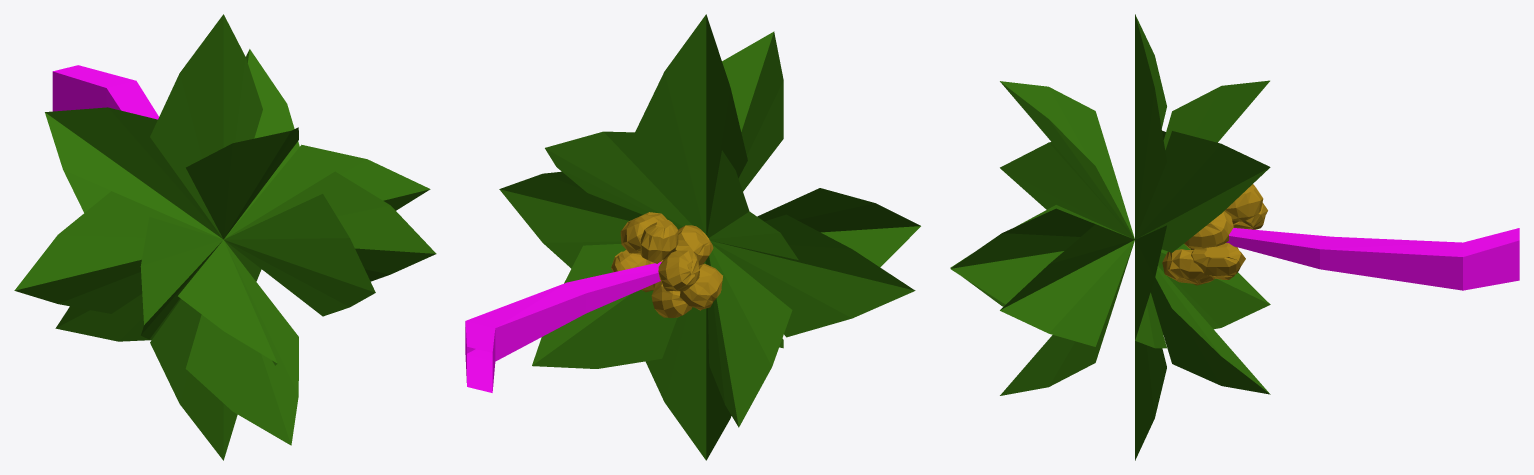
The model's file is 5_mature_full.obj.
3 renders of one model, left to right at view 1: azimuth 30°, elevation 25°; view 2: azimuth 150°, elevation 25°; view 3: azimuth 270°, elevation 25°, orthographic.
Parts seen in each view (by area): view 1: papayapalm; view 2: papayapalm; view 3: papayapalm.
Boxes of the visible parts, bbox=[...] form: papayapalm: bbox=[14, 14, 436, 460]; papayapalm: bbox=[465, 14, 920, 460]; papayapalm: bbox=[950, 14, 1519, 460].
Bounding box in the file's own units: 1.95 × 2 × 2.31.
